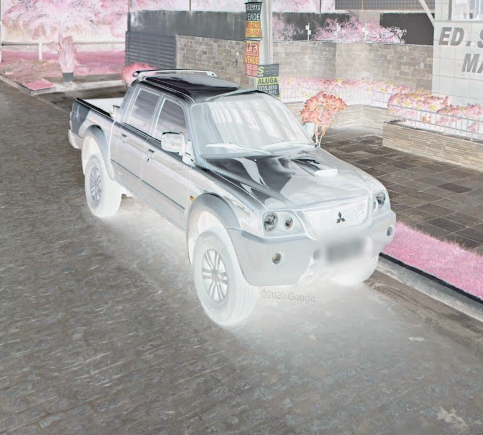car: (66, 66, 400, 330)
